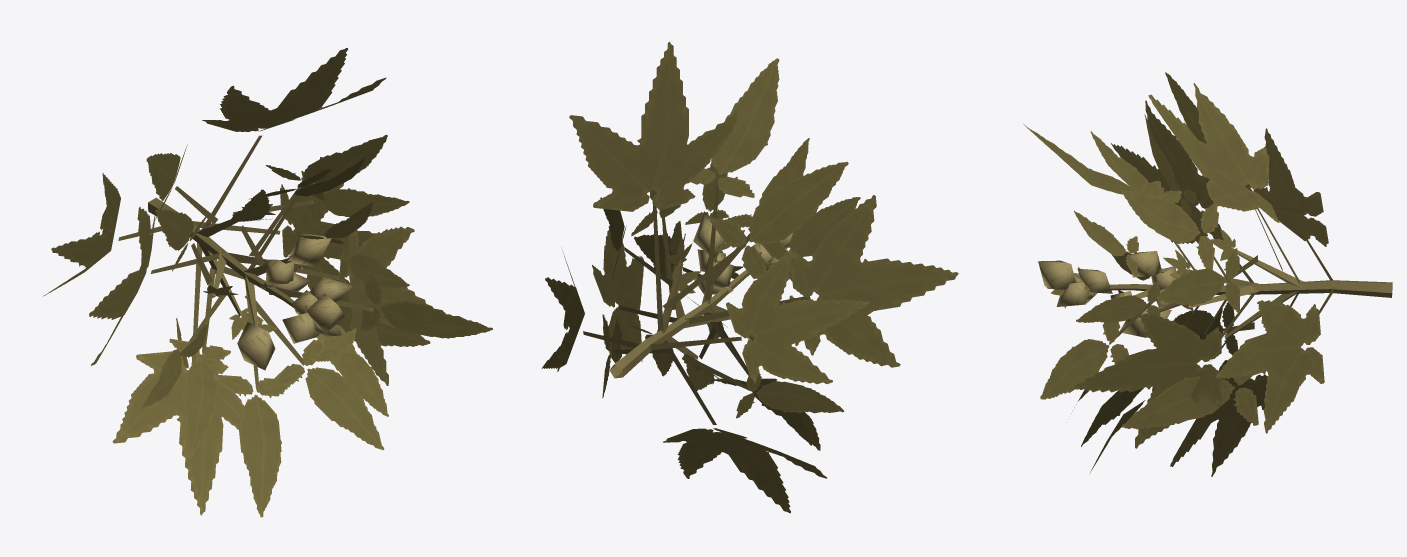
The model's file is p_male_auto_preflower_c2_cards.obj.
3 views of the same model, side by side, from view 1: azimuth 30°, elevation 25°; view 2: azimuth 150°, elevation 25°; view 3: azimuth 270°, elevation 25° (orthographic). The views are drawn at different scales.
Bounding box in the file's own units: 1.1 × 1.33 × 0.861.
Materials: 1 (1 with a texture image).
